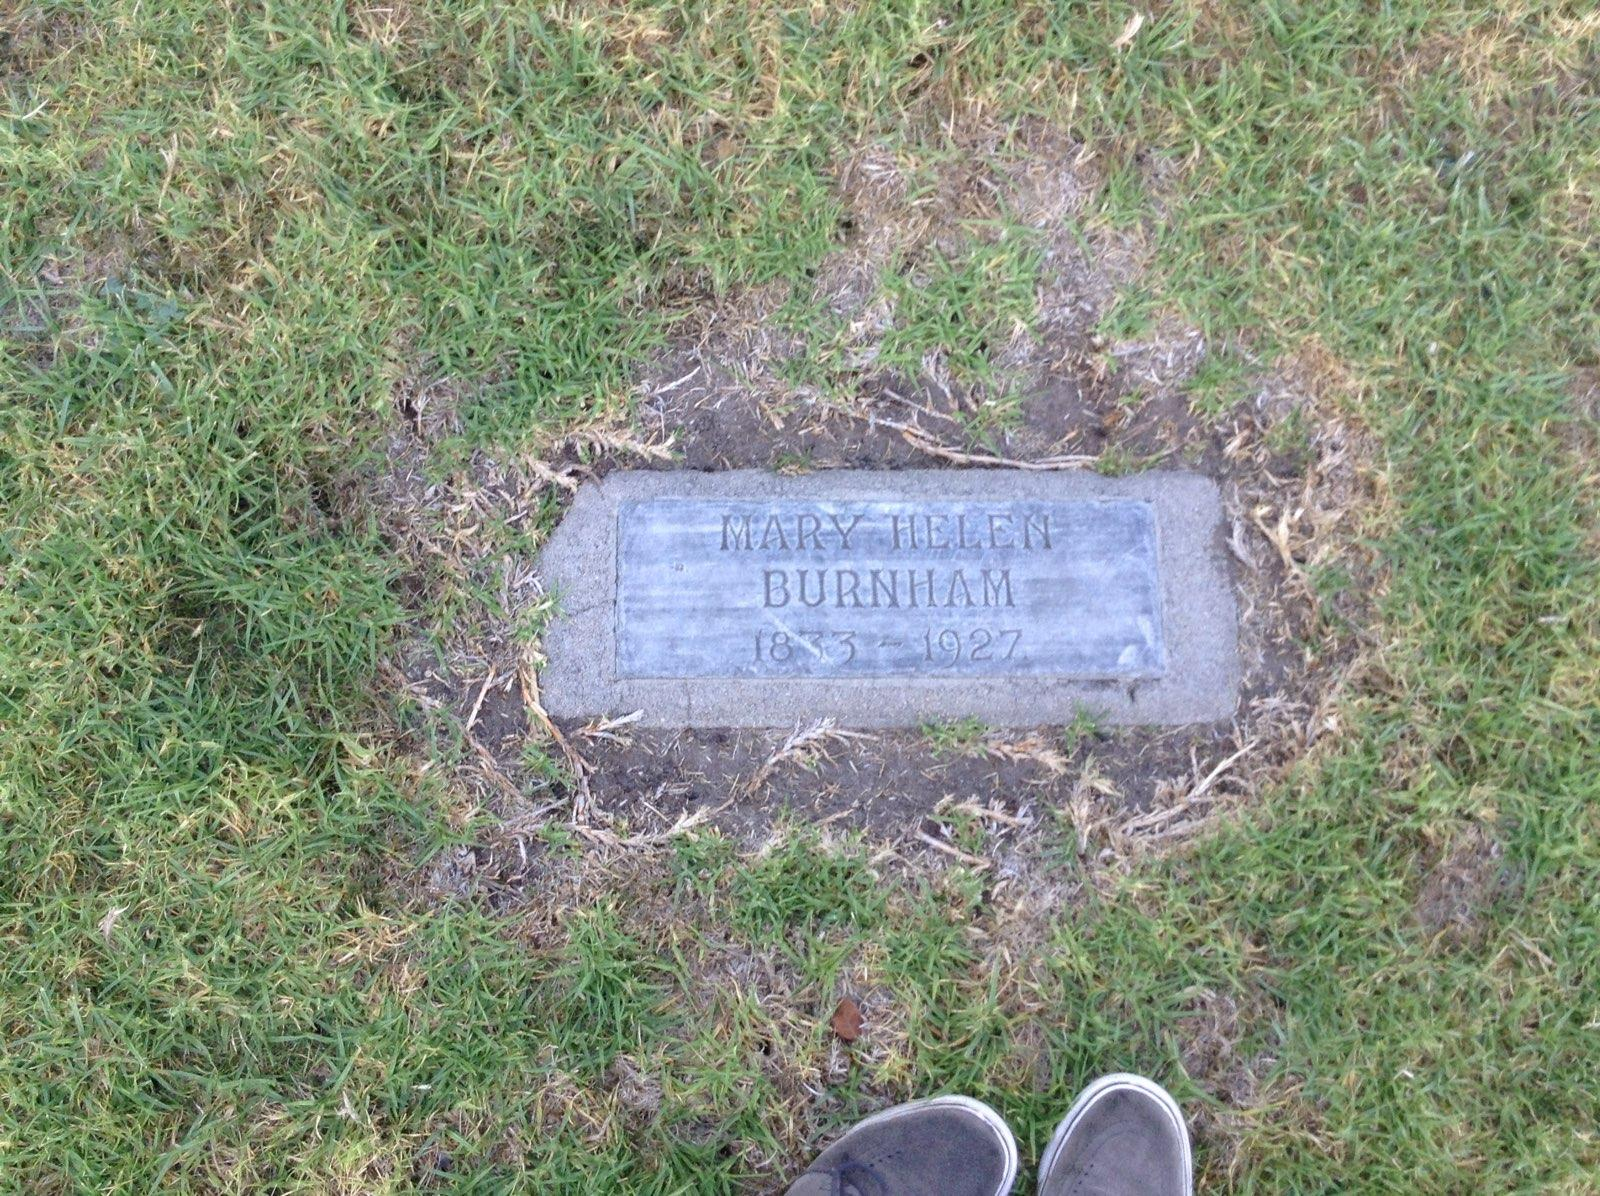flat: (535, 476, 1243, 722)
